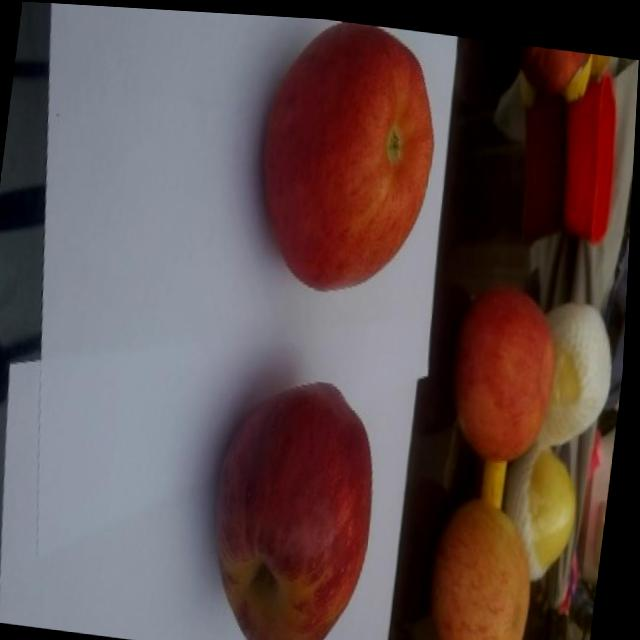Apple: (249, 12, 448, 299), (203, 366, 392, 640), (447, 275, 567, 463), (427, 486, 548, 640)
